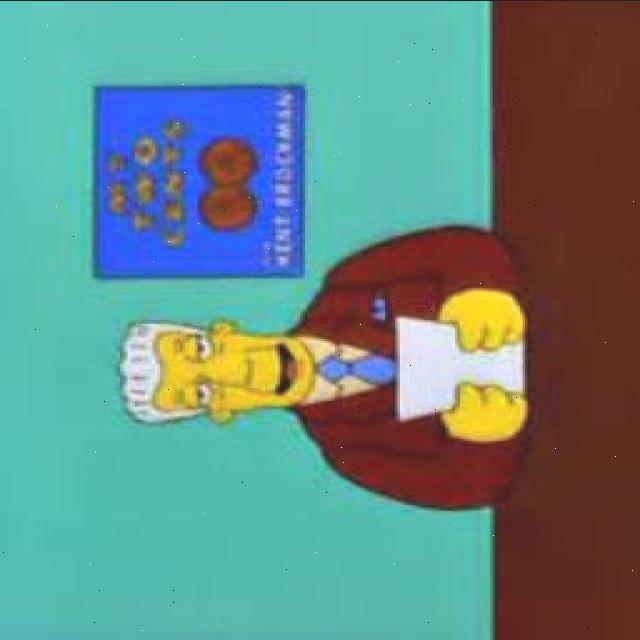Kent Brockman: (116, 321, 318, 427)
